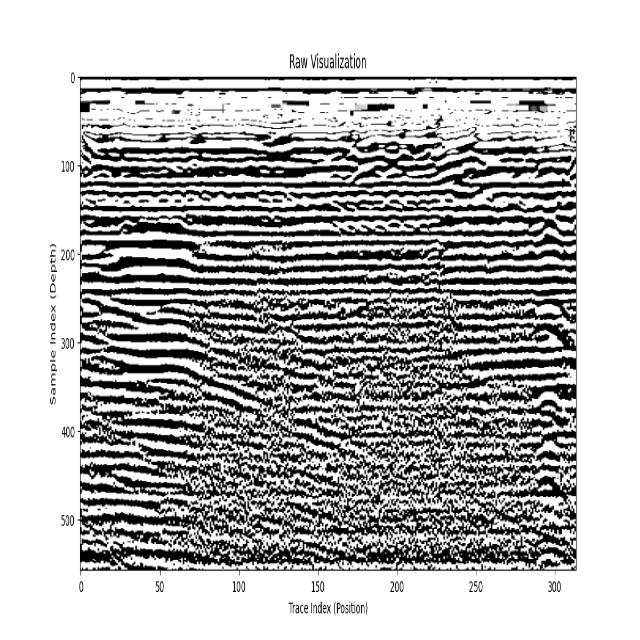anomaly: (528, 296, 574, 566)
